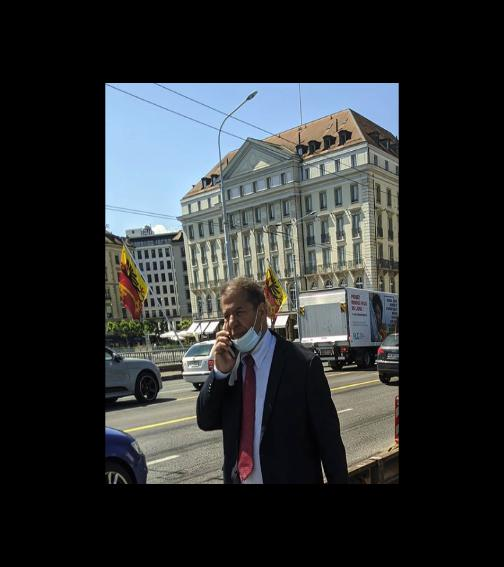mask_weared_incorrect: (222, 299, 262, 348)
